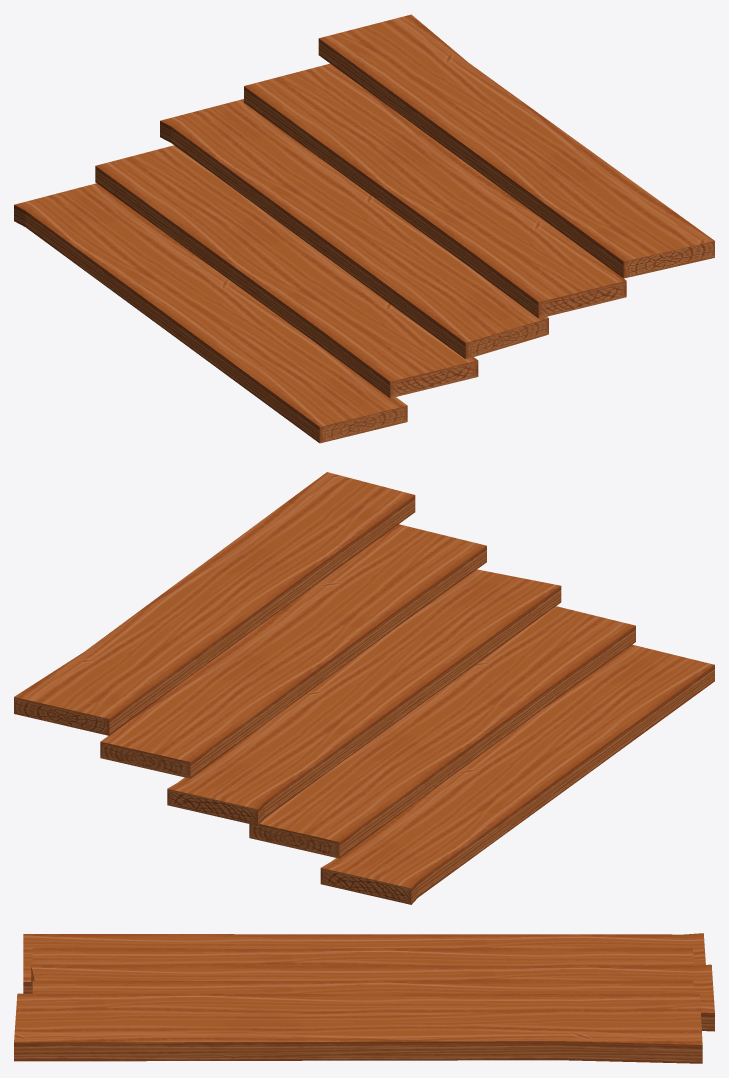
The model's file is woodstair2.fbx.
The picture shows the model from 3 angles, top to bottom: view 1: azimuth 30°, elevation 25°; view 2: azimuth 150°, elevation 25°; view 3: azimuth 270°, elevation 25°; orthographic projection. The views are drawn at different scales.
Parts seen in each view (by area): view 1: Cube.004_Cube.003; view 2: Cube.004_Cube.003; view 3: Cube.004_Cube.003.
Boxes of the visible parts, x1=… form: Cube.004_Cube.003: x1=14, y1=14, x2=714, y2=443; Cube.004_Cube.003: x1=14, y1=472, x2=714, y2=904; Cube.004_Cube.003: x1=14, y1=933, x2=714, y2=1063.
Bounding box in the file's own units: 300 × 79.7 × 411.
